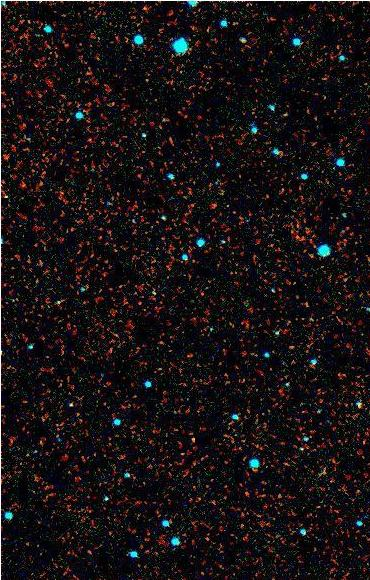star: (178, 423, 208, 453)
